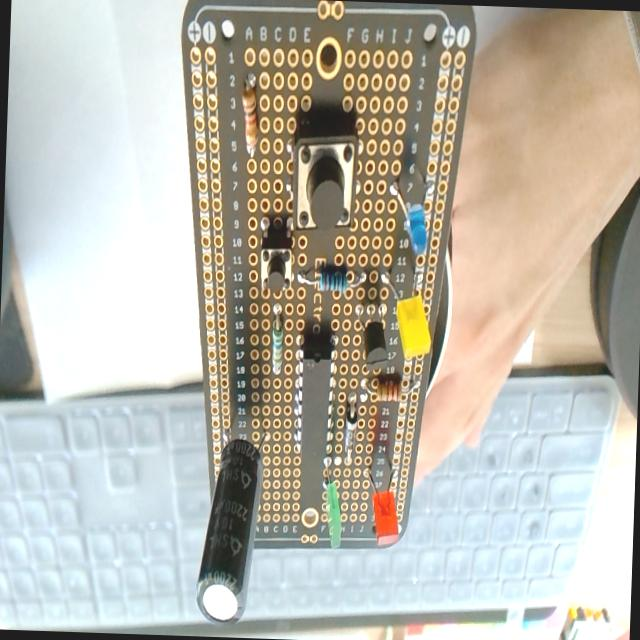Electrolytic capacitor: (195, 410, 269, 622)
IC: (290, 332, 339, 462)
diode: (342, 395, 358, 461)
led: (388, 170, 430, 258), (365, 459, 402, 547), (394, 293, 433, 361), (324, 478, 344, 548)
resistor: (296, 264, 366, 294), (360, 373, 416, 403), (240, 84, 258, 152), (270, 305, 285, 375)
switch: (289, 119, 359, 234), (258, 218, 294, 295)
transistor: (357, 296, 390, 368)
